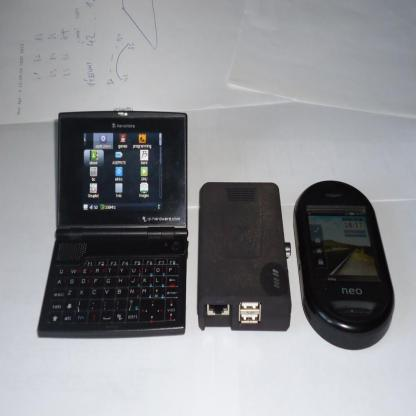board: (38, 111, 189, 337)
